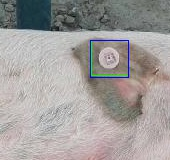text: (91, 40, 128, 75)
